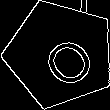O_NW: (26, 22, 94, 87)
